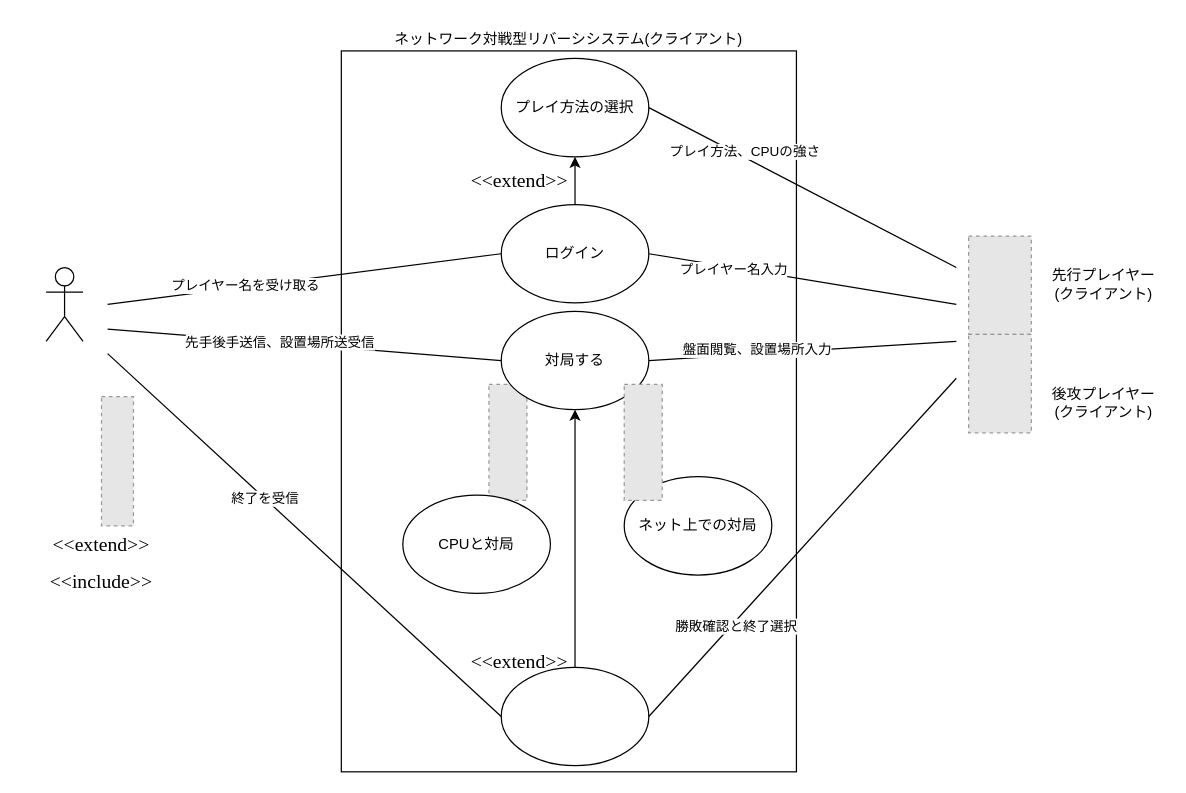
Some shapes in this 1186 by 793 pixel diagram are drawn without their labels. Grey dashed boxes stand in for pictures. Each missing label, with the centre of its shape:
サーバ: the point at 64,303
勝敗判定: the point at 574,716
